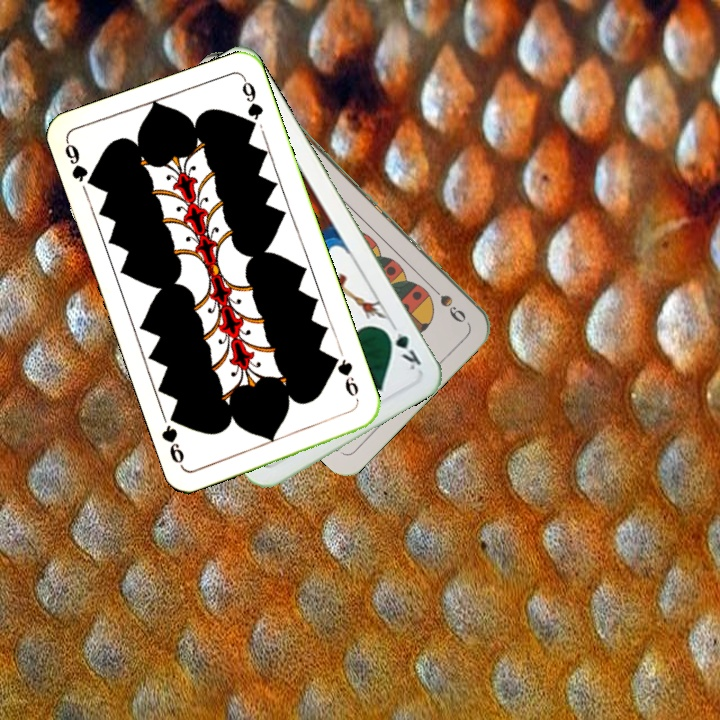G9: (60, 137, 99, 191), (328, 352, 362, 399)
GK: (380, 319, 424, 373)
S9: (424, 279, 469, 325)
